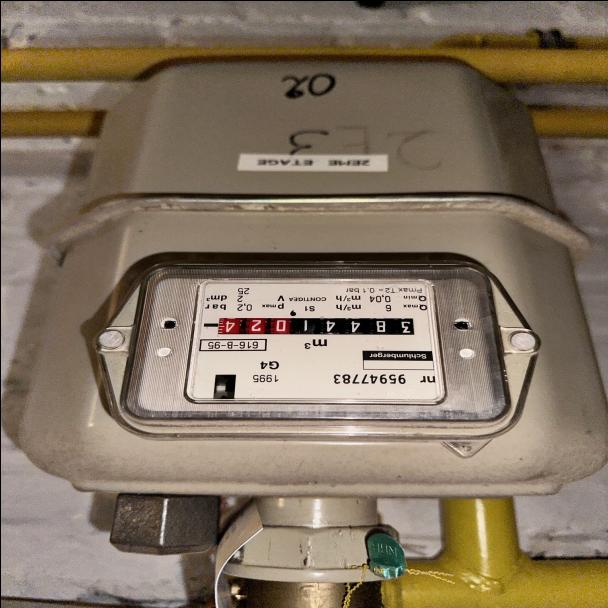0: (267, 316, 289, 337)
1: (291, 318, 317, 334)
2: (242, 316, 266, 335)
3: (393, 316, 415, 334)
4: (216, 317, 241, 335), (318, 316, 342, 333), (344, 318, 366, 334)
8: (366, 318, 390, 334)
cm: (212, 316, 288, 337)
counter: (290, 315, 418, 336)
